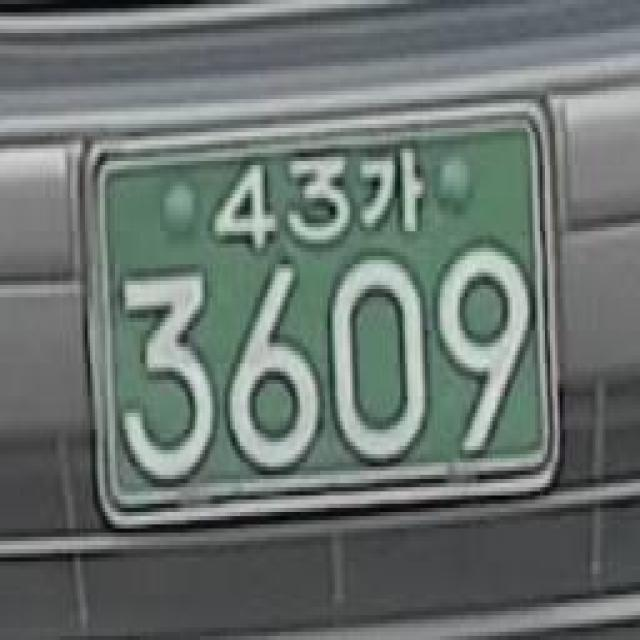illegal_plate: (73, 94, 577, 554)
